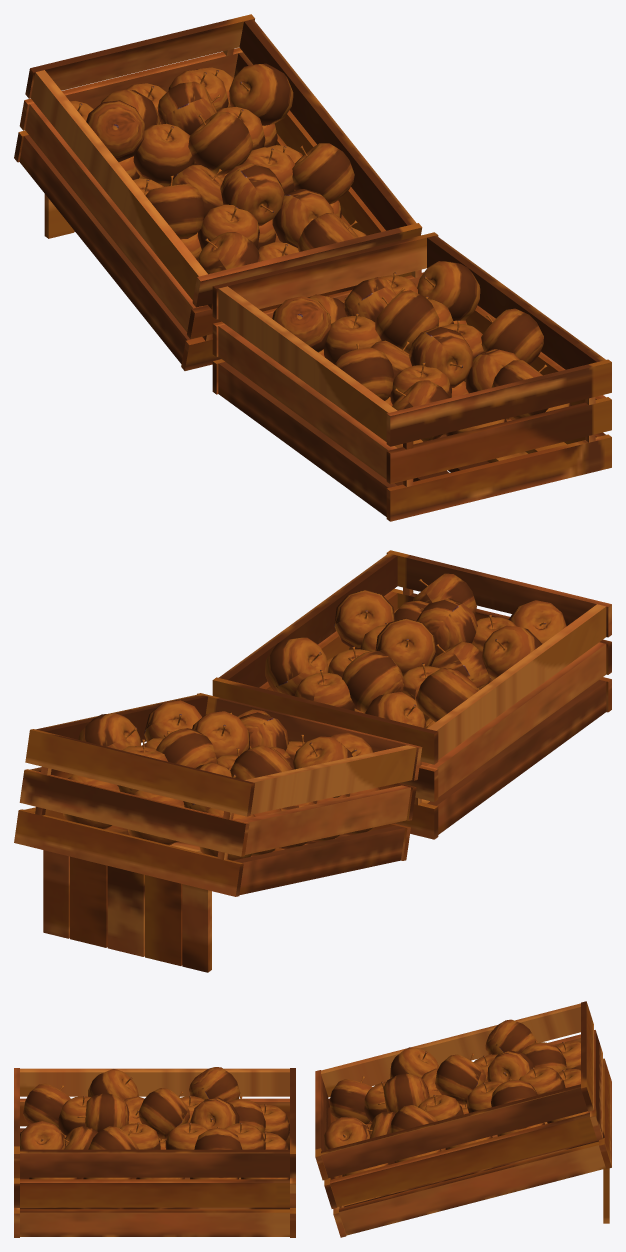
File: fruit crate_1.fbx
The picture shows the model from 3 angles, top to bottom: view 1: azimuth 30°, elevation 25°; view 2: azimuth 150°, elevation 25°; view 3: azimuth 270°, elevation 25°; orthographic projection. The views are drawn at different scales.
Parts seen in each view (by area): view 1: Cube.073, Cube.016, Plane.573, Plane.571, Plane.569, Plane.562, Plane.572, Plane.805, Plane.807, Plane.803, Plane.575, Plane.806 (+21 smaller); view 2: Cube.016, Cube.073, Cube.003, Plane.805, Plane.804, Plane.807, Plane.806, Plane.809, Plane.803, Plane.808, Plane.573, Plane.570 (+14 smaller); view 3: Cube.016, Cube.073, Plane.807, Plane.573, Plane.811, Plane.803, Plane.577, Plane.569, Plane.809, Plane.575, Plane.804, Plane.570 (+26 smaller).
Part boxes in pixels (left/top/right/bottom): Cube.073: left=212, top=232, right=611, bottom=521; Cube.016: left=14, top=14, right=422, bottom=370; Plane.573: left=188, top=112, right=252, bottom=175; Plane.571: left=229, top=63, right=293, bottom=125; Plane.569: left=220, top=162, right=284, bottom=226; Plane.562: left=133, top=123, right=194, bottom=186; Plane.572: left=292, top=143, right=354, bottom=204; Plane.805: left=417, top=261, right=480, bottom=320; Plane.807: left=375, top=290, right=439, bottom=353; Plane.803: left=409, top=327, right=472, bottom=387; Plane.575: left=86, top=100, right=144, bottom=162; Plane.806: left=481, top=308, right=543, bottom=364; Cube.016: left=14, top=693, right=422, bottom=896; Cube.073: left=212, top=550, right=611, bottom=839; Cube.003: left=43, top=850, right=211, bottom=972; Plane.805: left=265, top=637, right=328, bottom=696; Plane.804: left=341, top=651, right=404, bottom=713; Plane.807: left=375, top=618, right=437, bottom=674; Plane.806: left=334, top=589, right=395, bottom=649; Plane.809: left=415, top=668, right=478, bottom=727; Plane.803: left=416, top=598, right=477, bottom=656; Plane.808: left=481, top=625, right=541, bottom=679; Plane.573: left=192, top=711, right=250, bottom=758; Plane.570: left=156, top=728, right=217, bottom=768; Cube.016: left=315, top=1001, right=611, bottom=1237; Cube.073: left=14, top=1068, right=295, bottom=1237; Plane.807: left=139, top=1088, right=189, bottom=1139; Plane.573: left=435, top=1053, right=486, bottom=1104; Plane.811: left=23, top=1083, right=70, bottom=1129; Plane.803: left=77, top=1093, right=129, bottom=1131; Plane.577: left=329, top=1076, right=372, bottom=1124; Plane.569: left=378, top=1073, right=429, bottom=1112; Plane.809: left=189, top=1067, right=240, bottom=1101; Plane.575: left=485, top=1019, right=536, bottom=1054; Plane.804: left=190, top=1097, right=239, bottom=1129; Plane.570: left=487, top=1050, right=534, bottom=1083.
Size of the model in its own units: 26.86 by 21.97 by 78.99.
